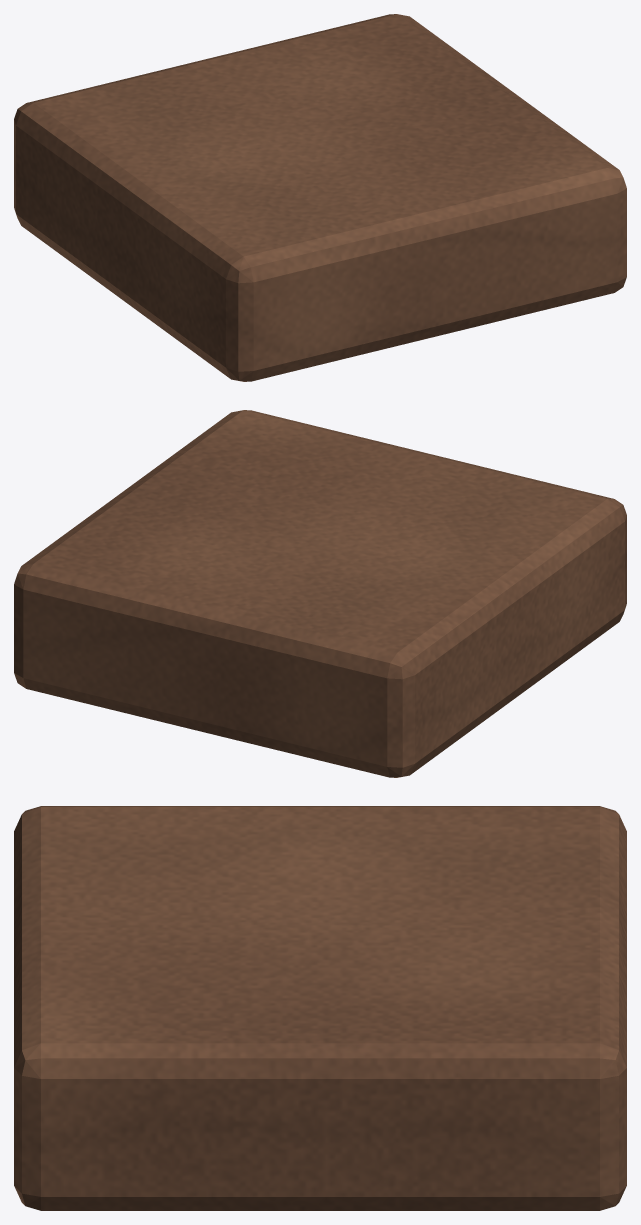
The model's file is LeftHand.fbx.
3 views of the same model, one above another, from view 1: azimuth 30°, elevation 25°; view 2: azimuth 150°, elevation 25°; view 3: azimuth 270°, elevation 25° (orthographic). The views are drawn at different scales.
Parts seen in each view (by area): view 1: LeftHand; view 2: LeftHand; view 3: LeftHand.
Boxes of the visible parts, box(x1,y1,x2,y2) form: LeftHand: box(14, 14, 626, 381); LeftHand: box(14, 410, 626, 777); LeftHand: box(14, 806, 626, 1210).
Size of the model in its own units: 1 by 0.3001 by 1.
Materials: 1 (1 with a texture image).
